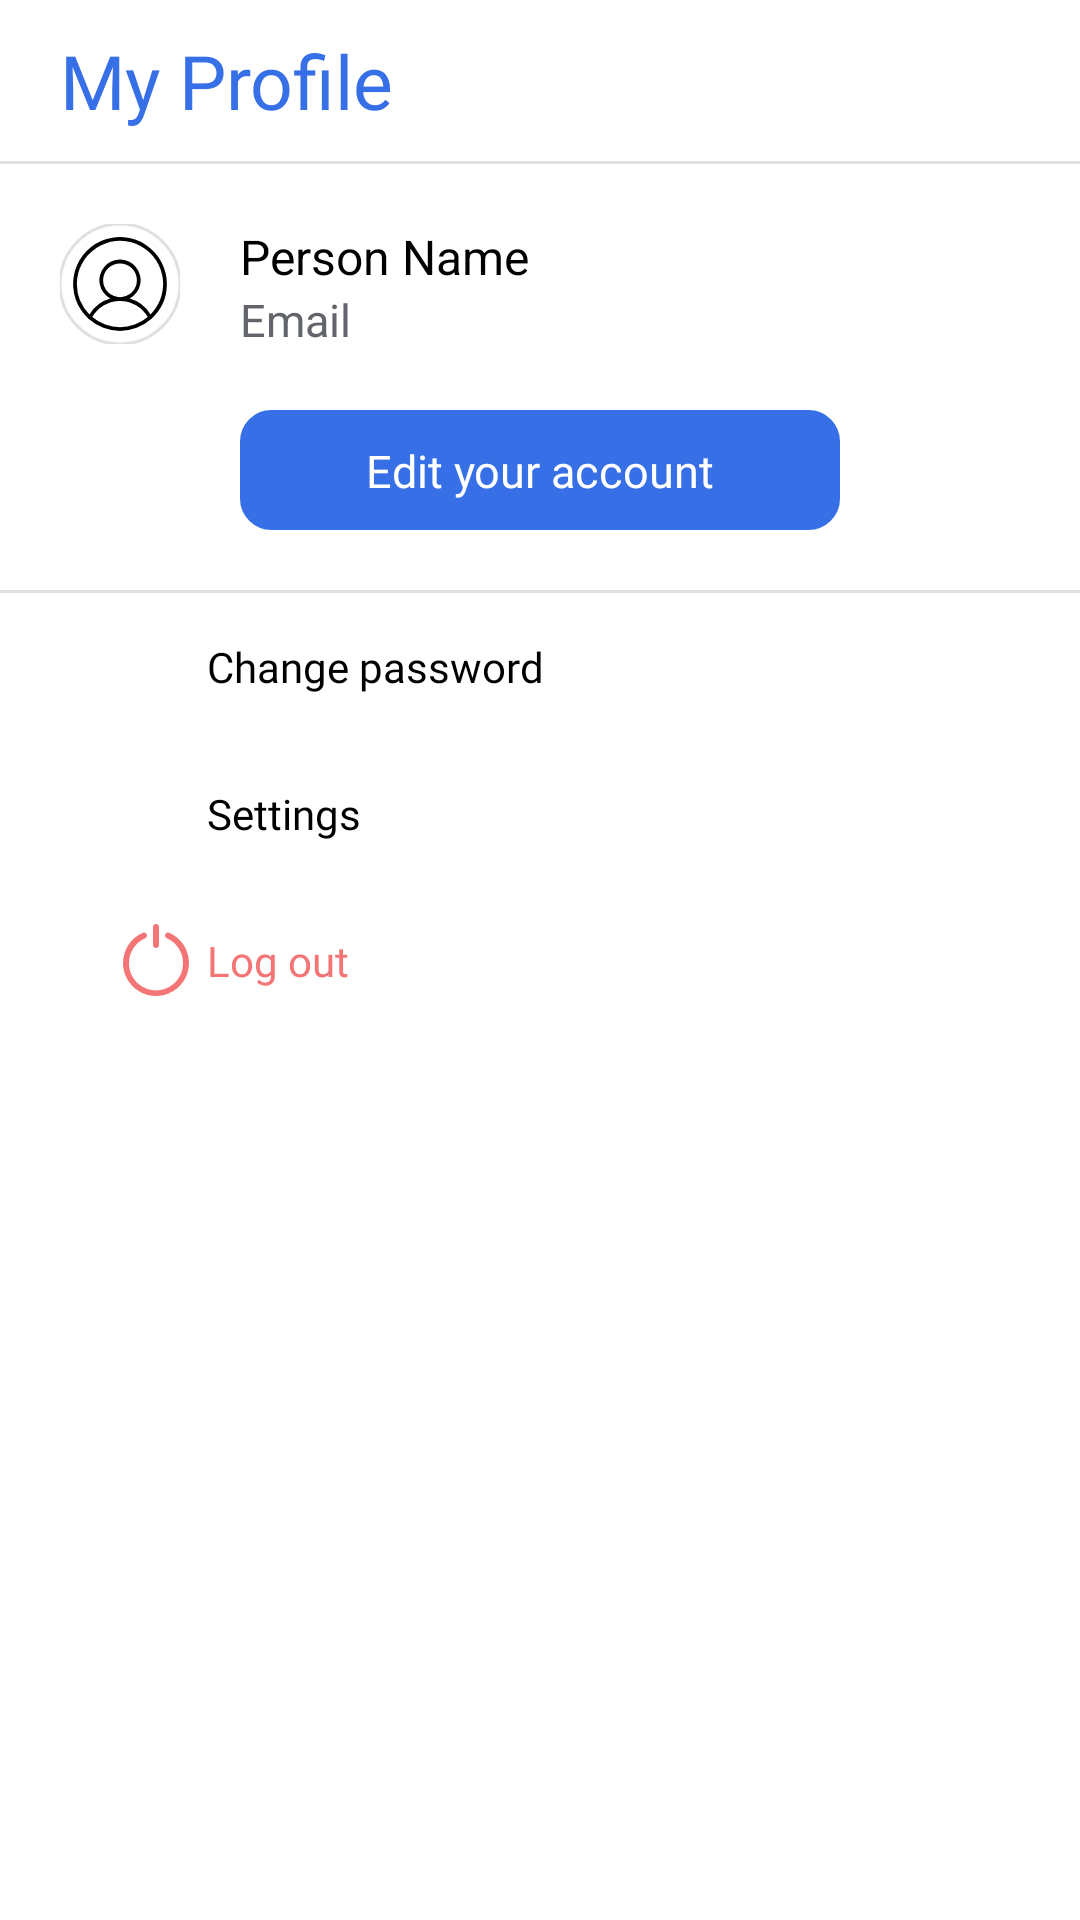

Icon click points for this 1080px×1920px phone screenshot, format point (x, y):
circle user: point (120, 284)
power: point (156, 960)
